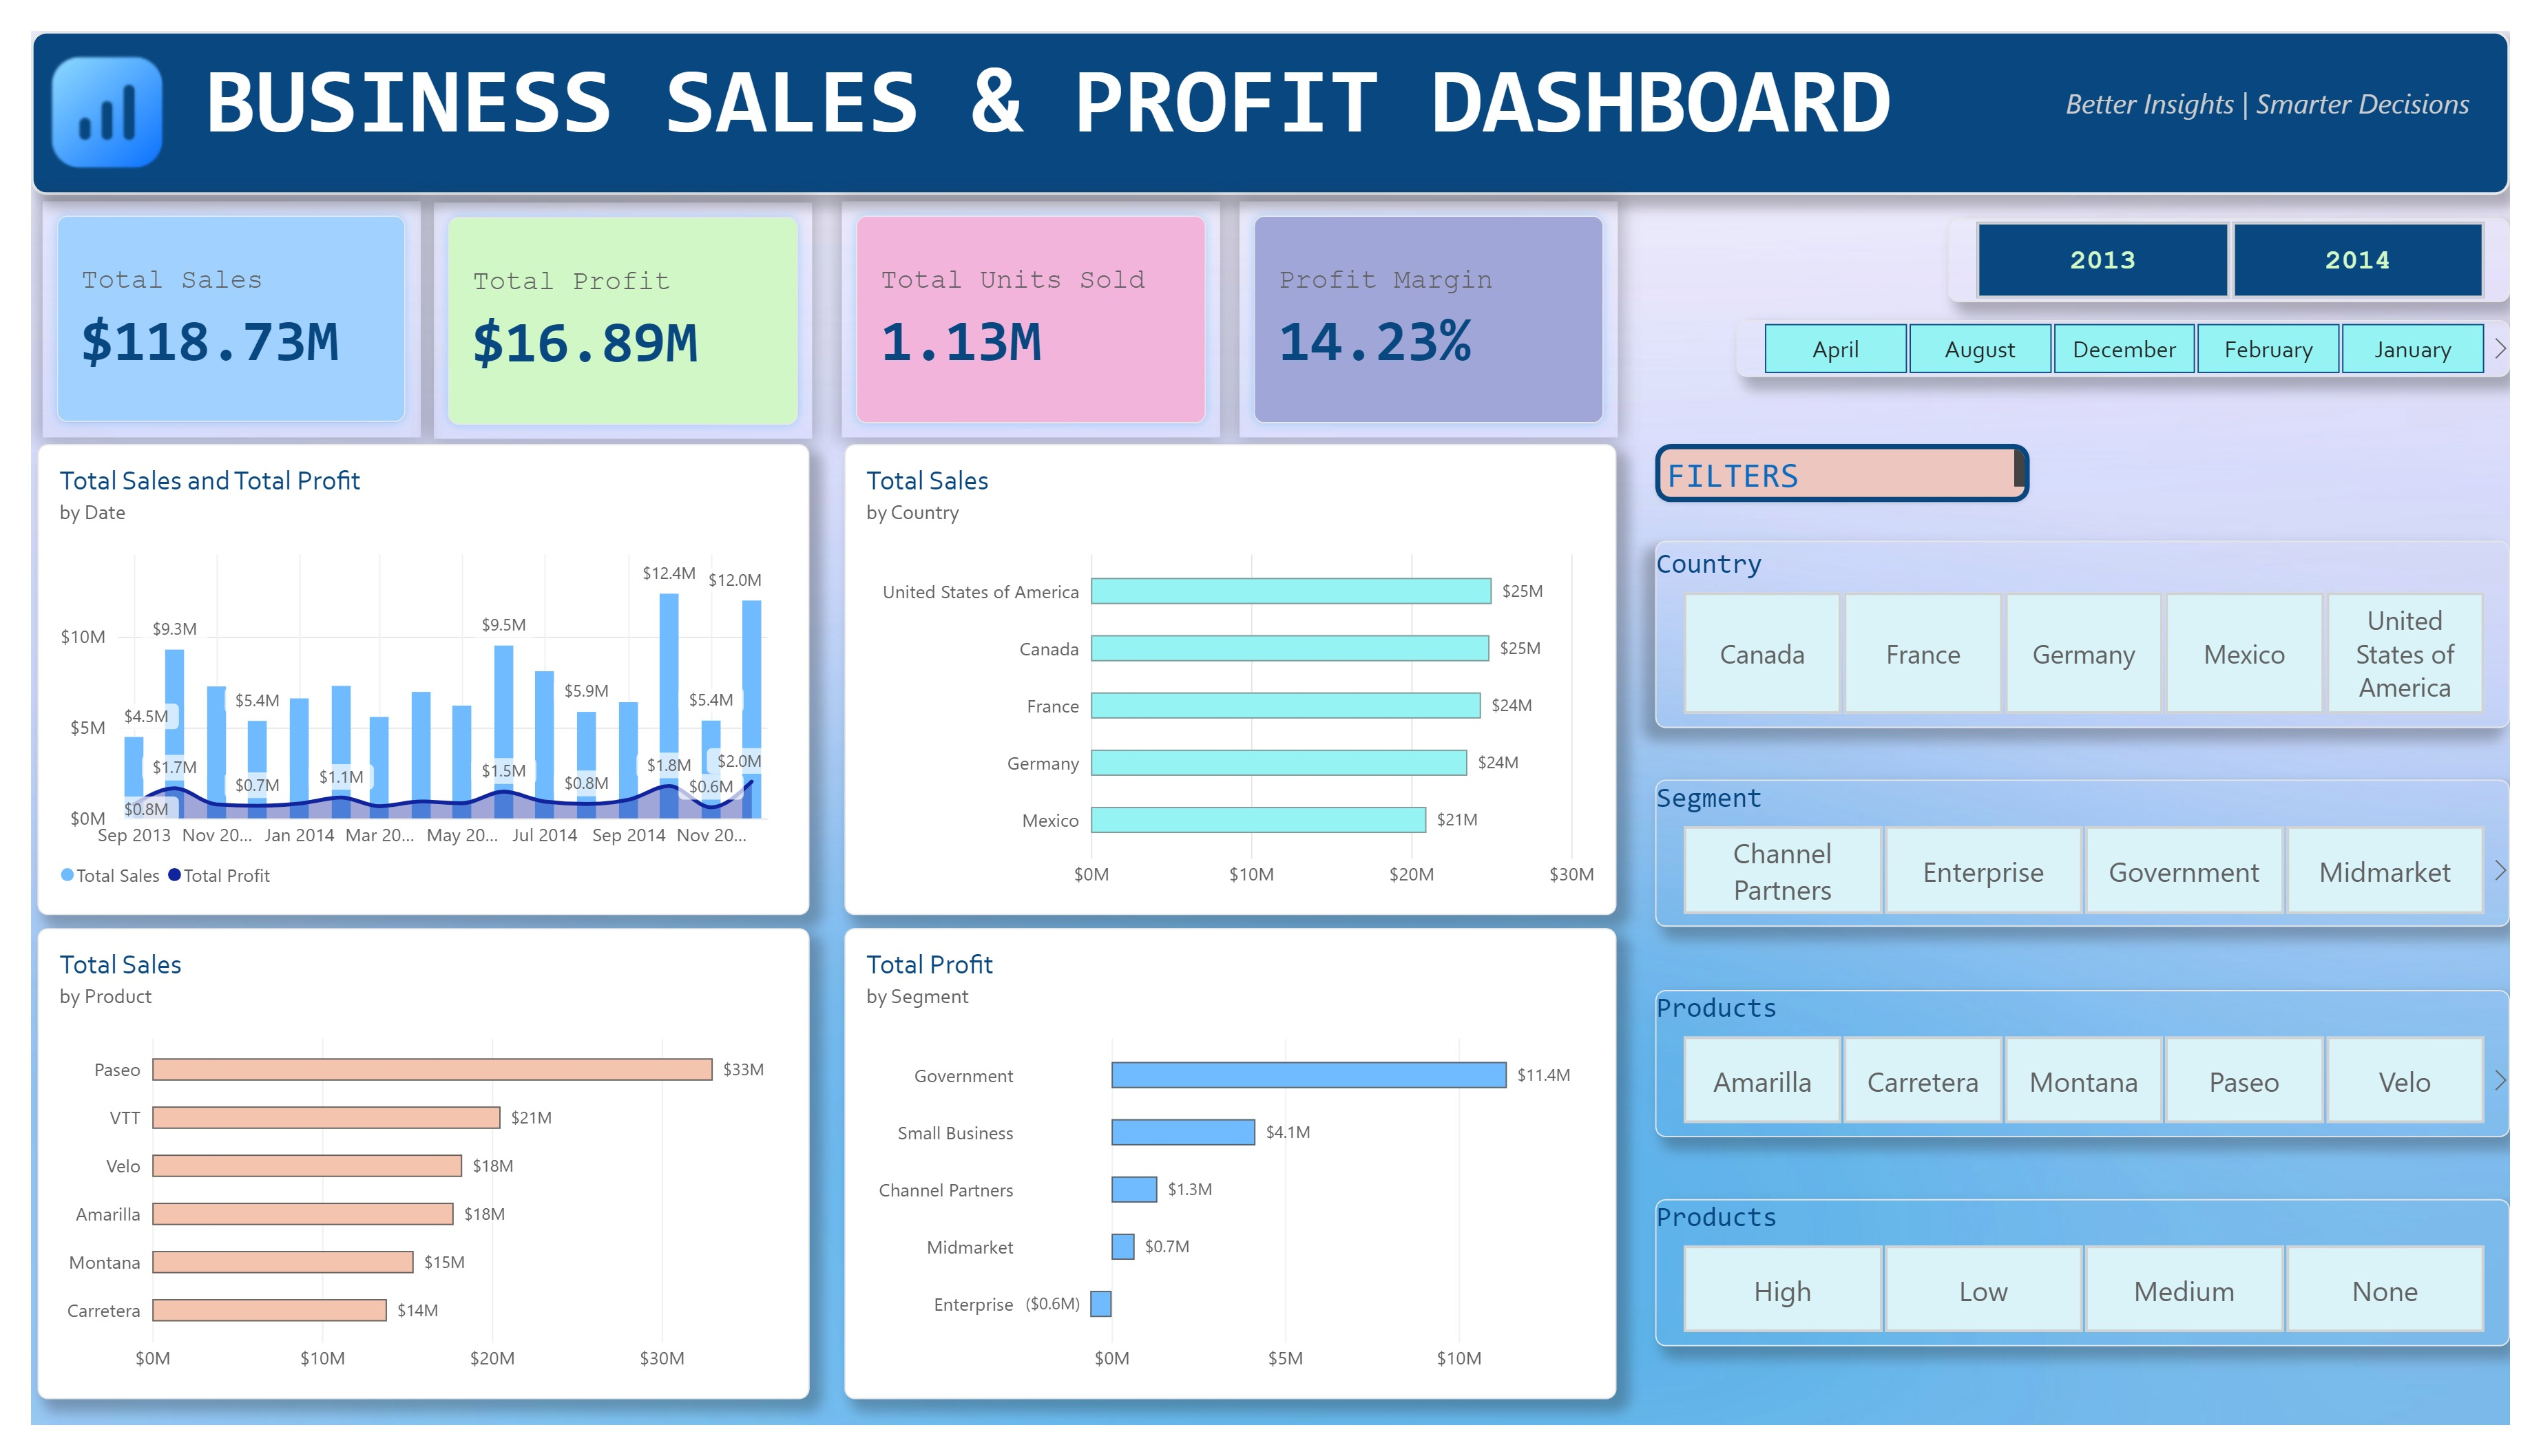

The page's visual inventory and layout, read from the dashboard file:
{"tool":"powerbi","page":{"name":"Page 1","canvas":[1920,1080],"ordinal":0},"visuals":[{"type":"textbox","box":[0,0,1920,126.7],"z":0},{"type":"textbox","box":[1576,39,334,48],"z":1000},{"type":"actionButton","box":[11.4,8.6,95.7,107.1],"z":2000},{"type":"cardVisual","fields":{"Data":["New Measures.Total Sales"]},"box":[9,132,292.5,182.5],"z":3000},{"type":"cardVisual","fields":{"Data":["New Measures.Total Profit"]},"box":[312,133,293,183],"z":4000},{"type":"cardVisual","fields":{"Data":["New Measures.Total Units Sold"]},"box":[628,132,293,183],"z":5000},{"type":"cardVisual","fields":{"Data":["New Measures.Profit Margin"]},"box":[936,132,293,183],"z":6000},{"type":"lineClusteredColumnComboChart","fields":{"Category":["BusinessData.Date"],"Y":["New Measures.Total Sales"],"Y2":["New Measures.Total Profit"]},"box":[5,320,597.5,365],"z":7000},{"type":"clusteredBarChart","fields":{"Category":["BusinessData.Country"],"Y":["New Measures.Total Sales"]},"box":[630,320,598,365],"z":8000},{"type":"clusteredBarChart","fields":{"Category":["BusinessData.Product"],"Y":["New Measures.Total Sales"]},"box":[5,695,598,365],"z":9000},{"type":"clusteredBarChart","fields":{"Category":["BusinessData.Segment"],"Y":["New Measures.Total Profit"]},"box":[630,695,598,365],"z":10000},{"type":"slicer","fields":{"Values":["BusinessData.Year"]},"box":[1485,145,435,65],"z":11000},{"type":"slicer","title":"Country","fields":{"Values":["BusinessData.Country"]},"box":[1257.5,395,662.5,145],"z":12000},{"type":"slicer","title":"Segment","fields":{"Values":["BusinessData.Segment"]},"box":[1257.5,580,662.9,114.3],"z":13000},{"type":"slicer","title":"Products","fields":{"Values":["BusinessData.Product"]},"box":[1257.5,742.5,662.9,114.3],"z":14000},{"type":"slicer","title":"Products","fields":{"Values":["BusinessData.Discount Band"]},"box":[1257.5,905,662.9,114.3],"z":15000},{"type":"textbox","box":[1258,320,290,45],"z":16000},{"type":"slicer","fields":{"Values":["BusinessData.Month Name"]},"box":[1321.2,223.8,598.8,43.8],"z":16001}]}

Visuals, with their boxes in screenshot pixels (x1, y1, x2, y2), scaled from the page's 1920x1080 canvas onto the 2541x1456 screenshot:
textbox: 0/0/2540/171
textbox: 2086/52/2528/117
actionButton: 15/12/142/156
cardVisual - New Measures.Total Sales: 12/178/399/424
cardVisual - New Measures.Total Profit: 413/179/801/426
cardVisual - New Measures.Total Units Sold: 831/178/1219/425
cardVisual - New Measures.Profit Margin: 1239/178/1627/425
lineClusteredColumnComboChart - BusinessData.Date x New Measures.Total Sales: 7/432/797/923
clusteredBarChart - BusinessData.Country x New Measures.Total Sales: 834/432/1625/923
clusteredBarChart - BusinessData.Product x New Measures.Total Sales: 7/937/798/1429
clusteredBarChart - BusinessData.Segment x New Measures.Total Profit: 834/937/1625/1429
slicer - BusinessData.Year: 1965/196/2540/283
"Country" slicer: 1664/533/2540/728
"Segment" slicer: 1664/782/2540/936
"Products" slicer: 1664/1001/2540/1155
"Products" slicer: 1664/1220/2540/1374
textbox: 1665/432/2049/492
slicer - BusinessData.Month Name: 1748/302/2540/361
